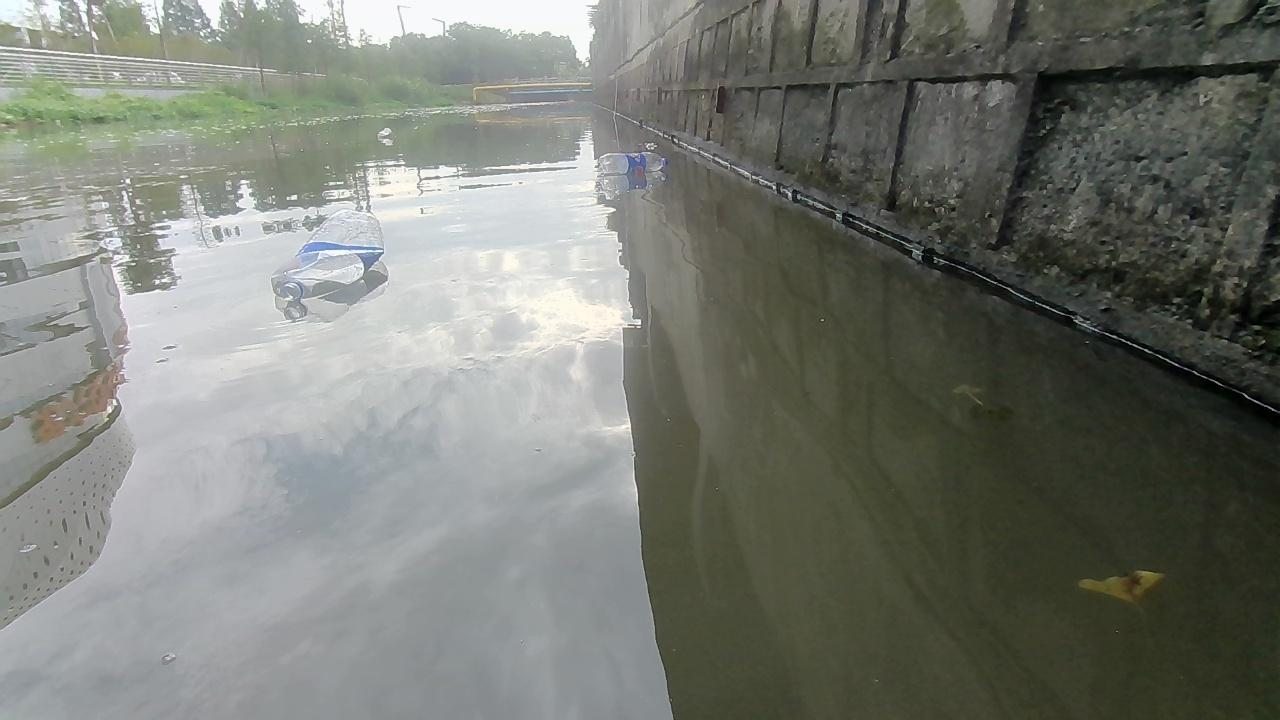bottle: (258, 213, 386, 306), (595, 147, 673, 172), (375, 124, 394, 141)
